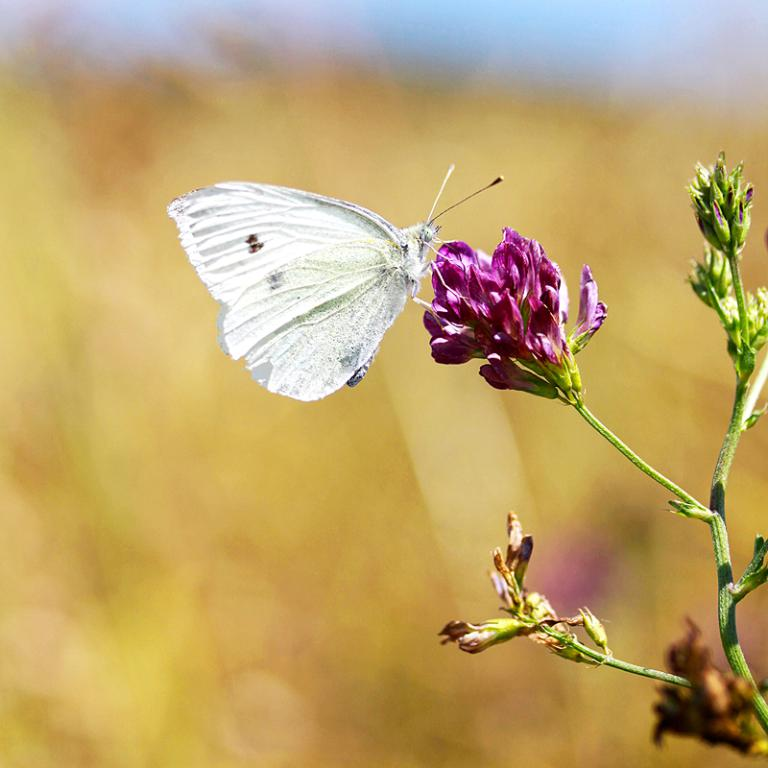Butterfly: (142, 150, 456, 427)
